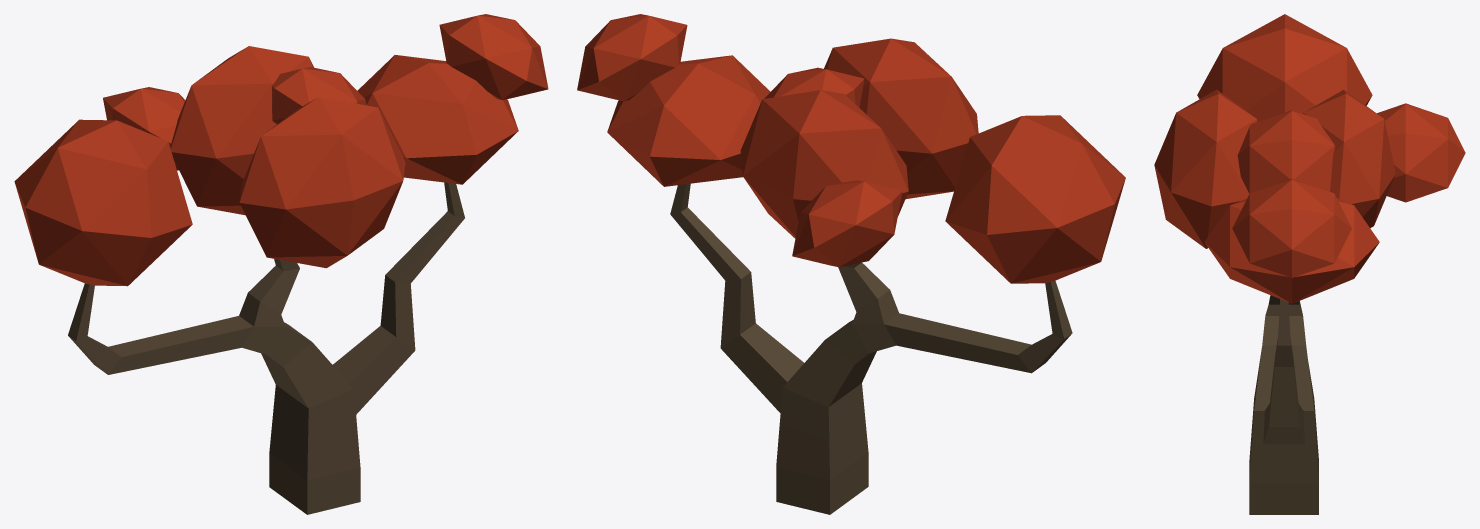
File: tree6.FBX
3 renders of one model, left to right at view 1: azimuth 30°, elevation 25°; view 2: azimuth 150°, elevation 25°; view 3: azimuth 270°, elevation 25°, orthographic. The views are drawn at different scales.
Parts seen in each view (by area): view 1: tree6; view 2: tree6; view 3: tree6.
Boxes of the visible parts, x1,y1,x2,y2 form: tree6: [14, 14, 548, 514]; tree6: [577, 14, 1125, 514]; tree6: [1154, 14, 1465, 514].
Size of the model in its own units: 17.16 by 13.75 by 9.75.
